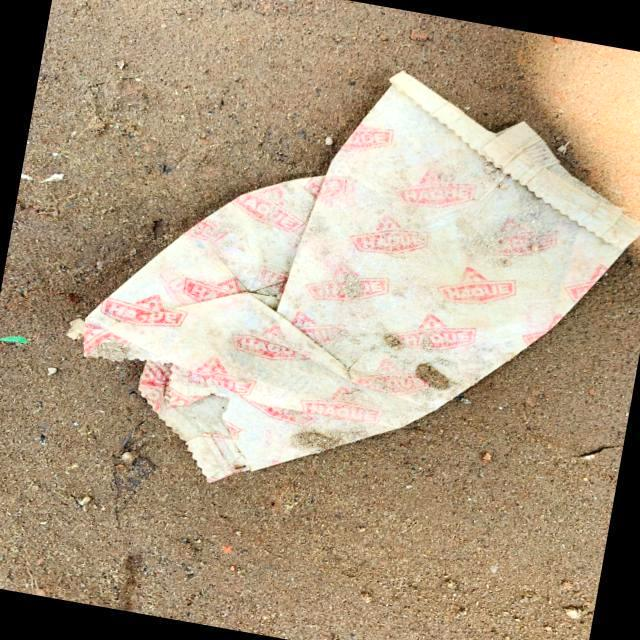polythene: (72, 13, 633, 521)
